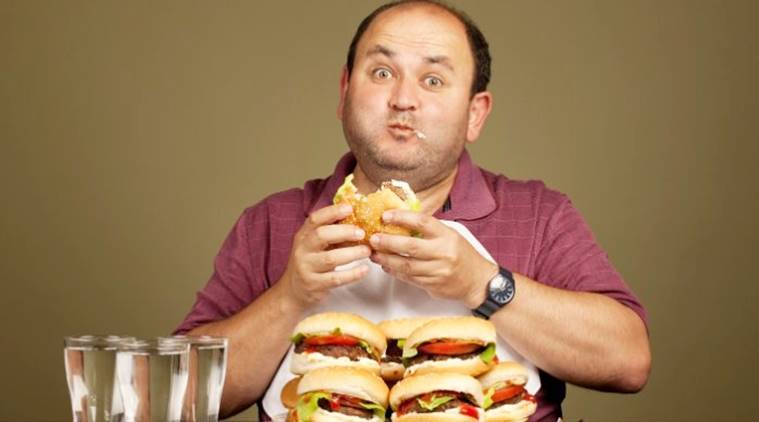eating: (237, 2, 608, 340)
